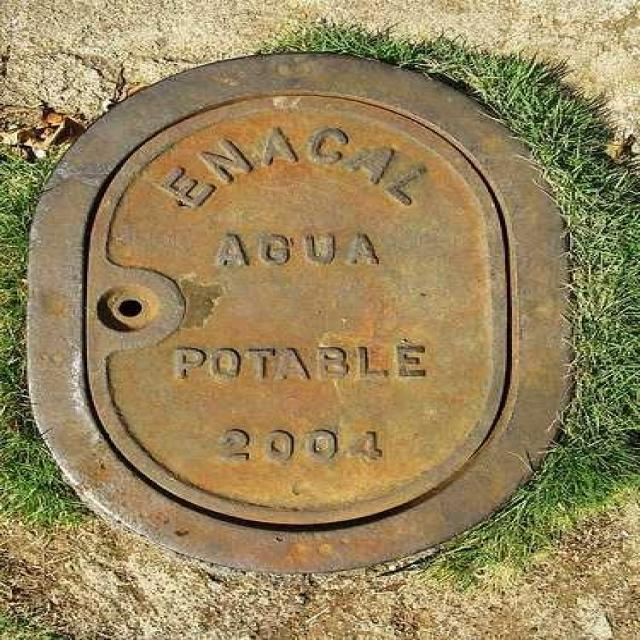manhole: (28, 54, 570, 572)
